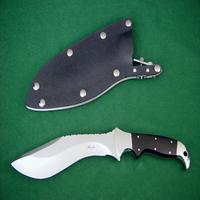knife: (7, 123, 191, 179)
